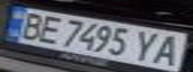4: (75, 20, 100, 52)
5: (109, 25, 136, 58)
7: (57, 17, 84, 50)
9: (90, 22, 115, 54)
A: (148, 33, 190, 66)
B: (9, 9, 51, 40)
E: (33, 12, 66, 44)
Y: (130, 28, 166, 63)
